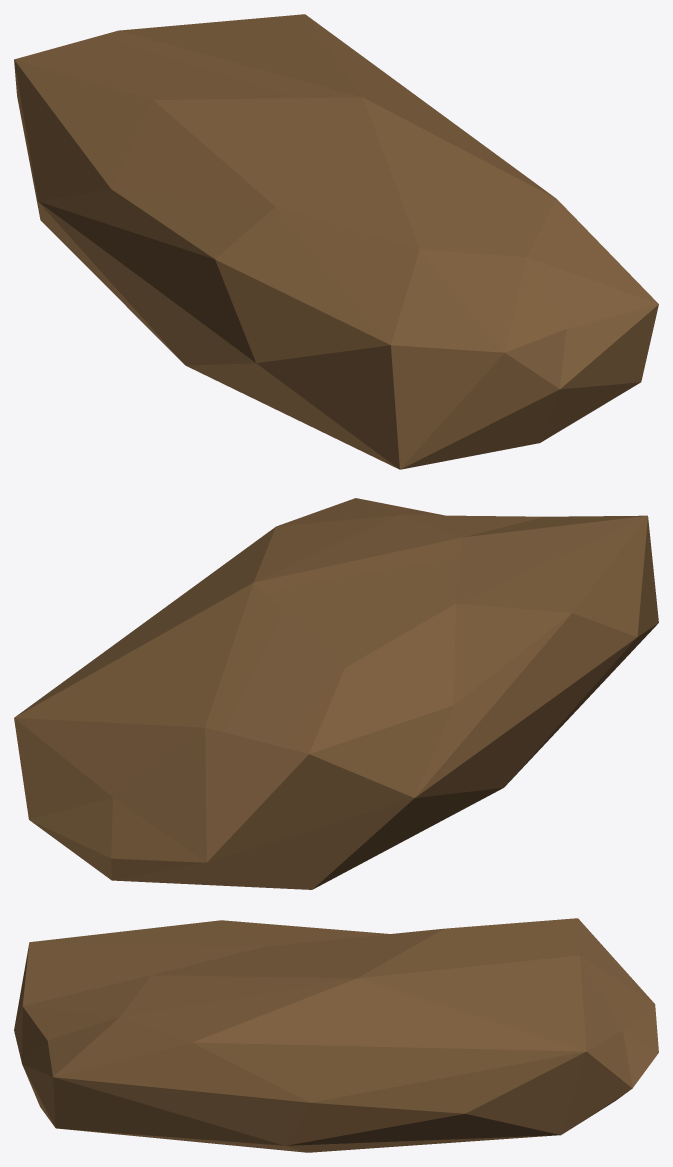
File: Gravestone_03.fbx
The picture shows the model from 3 angles, top to bottom: view 1: azimuth 30°, elevation 25°; view 2: azimuth 150°, elevation 25°; view 3: azimuth 270°, elevation 25°; orthographic projection. The views are drawn at different scales.
Visible parts, largest first — view 1: Gravestone_03; view 2: Gravestone_03; view 3: Gravestone_03.
Boxes of the visible parts, x1,y1,x2,y2 form: Gravestone_03: [14, 14, 658, 469]; Gravestone_03: [14, 498, 658, 889]; Gravestone_03: [14, 918, 658, 1152].
Bounding box in the file's own units: 0.8473 × 0.4685 × 1.66.
